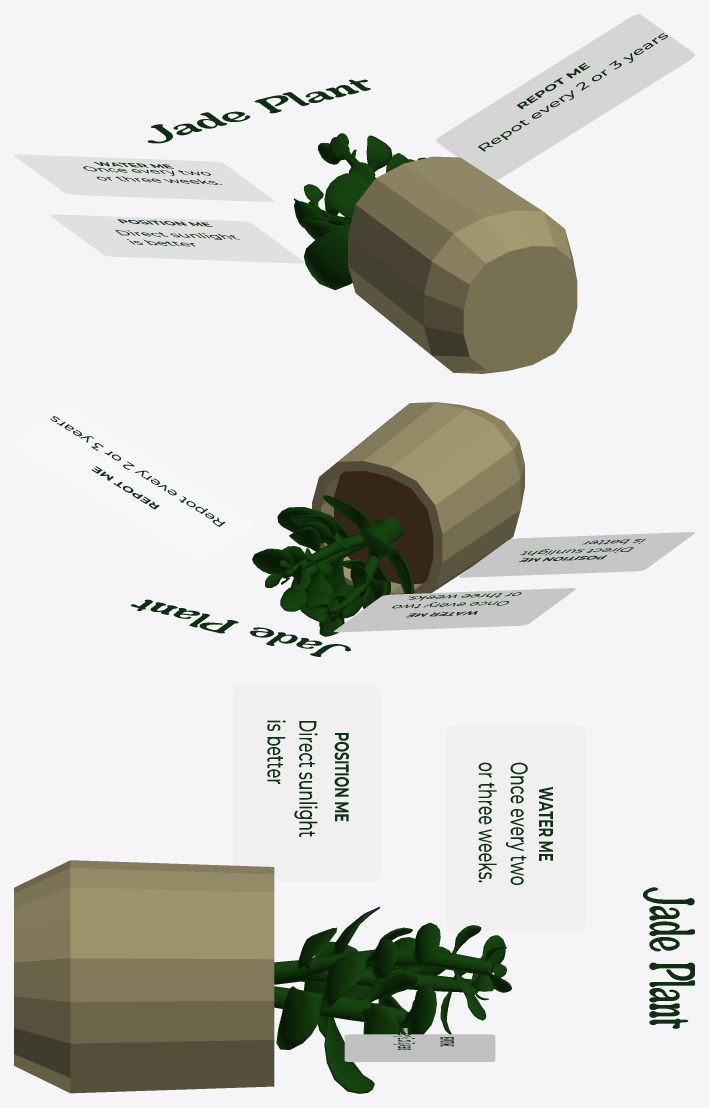
File: jadeplant.glb
3 views of the same model, one above another, from view 1: azimuth 30°, elevation 25°; view 2: azimuth 150°, elevation 25°; view 3: azimuth 270°, elevation 25° (orthographic). The views are drawn at different scales.
Parts seen in each view (by area): view 1: Cube, Plane, Plane.002, Plane.001, mace_lp001_08 - Default_0.001, Text, Text.006, Text.004; view 2: Cube, Plane, mace_lp001_08 - Default_0.001, Plane.002, Plane.001, Text, Text.006, Text.004, Text.005; view 3: Cube, Plane.002, Plane.001, mace_lp001_08 - Default_0.001, Plane, Text, Text.004, Text.005, Text.002.
Boxes of the visible parts, bbox=[...] form: Cube: bbox=[348, 156, 577, 373]; Plane: bbox=[436, 14, 694, 180]; Plane.002: bbox=[14, 154, 274, 201]; Plane.001: bbox=[50, 214, 304, 263]; mace_lp001_08 - Default_0.001: bbox=[293, 133, 425, 290]; Text: bbox=[147, 79, 370, 143]; Text.006: bbox=[478, 33, 667, 151]; Text.004: bbox=[83, 166, 221, 184]; Cube: bbox=[312, 402, 524, 594]; Plane: bbox=[14, 406, 253, 562]; mace_lp001_08 - Default_0.001: bbox=[252, 495, 414, 636]; Plane.002: bbox=[334, 588, 575, 632]; Plane.001: bbox=[459, 532, 694, 577]; Text: bbox=[130, 599, 350, 656]; Text.006: bbox=[50, 416, 224, 526]; Text.004: bbox=[392, 592, 521, 608]; Text.005: bbox=[520, 539, 645, 555]; Cube: bbox=[14, 860, 274, 1093]; Plane.002: bbox=[445, 726, 586, 930]; Plane.001: bbox=[233, 685, 380, 881]; mace_lp001_08 - Default_0.001: bbox=[274, 906, 511, 1093]; Plane: bbox=[344, 1034, 495, 1061]; Text: bbox=[643, 887, 694, 1028]; Text.004: bbox=[478, 762, 527, 884]; Text.005: bbox=[267, 720, 317, 836]; Text.002: bbox=[334, 733, 348, 821].
Size of the model in its own units: 206 by 51.67 by 151.
